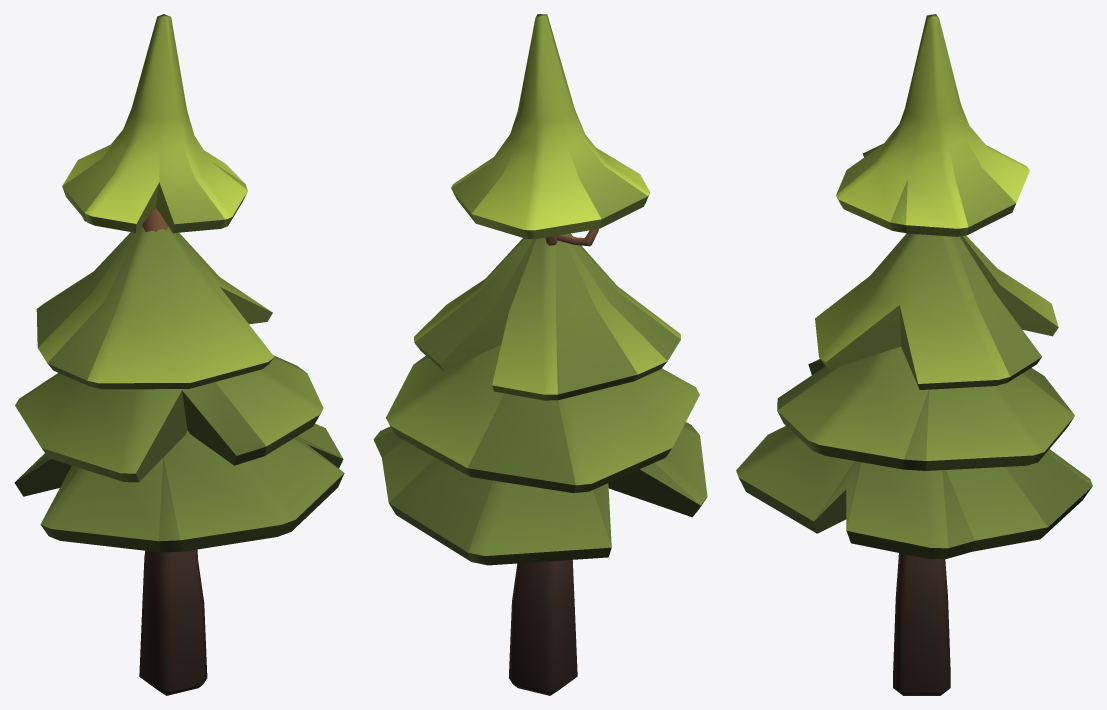
File: pine_tree_col1_09.fbx
The picture shows the model from 3 angles, left to right: view 1: azimuth 30°, elevation 25°; view 2: azimuth 150°, elevation 25°; view 3: azimuth 270°, elevation 25°; orthographic projection.
Parts seen in each view (by area): view 1: tree_pine_col1_09; view 2: tree_pine_col1_09; view 3: tree_pine_col1_09.
Part boxes in pixels (box(x1,y1,x2,y2)): tree_pine_col1_09: box(14, 14, 344, 695); tree_pine_col1_09: box(373, 14, 707, 695); tree_pine_col1_09: box(736, 14, 1092, 695).
Bounding box in the file's own units: 379 × 801 × 387.
